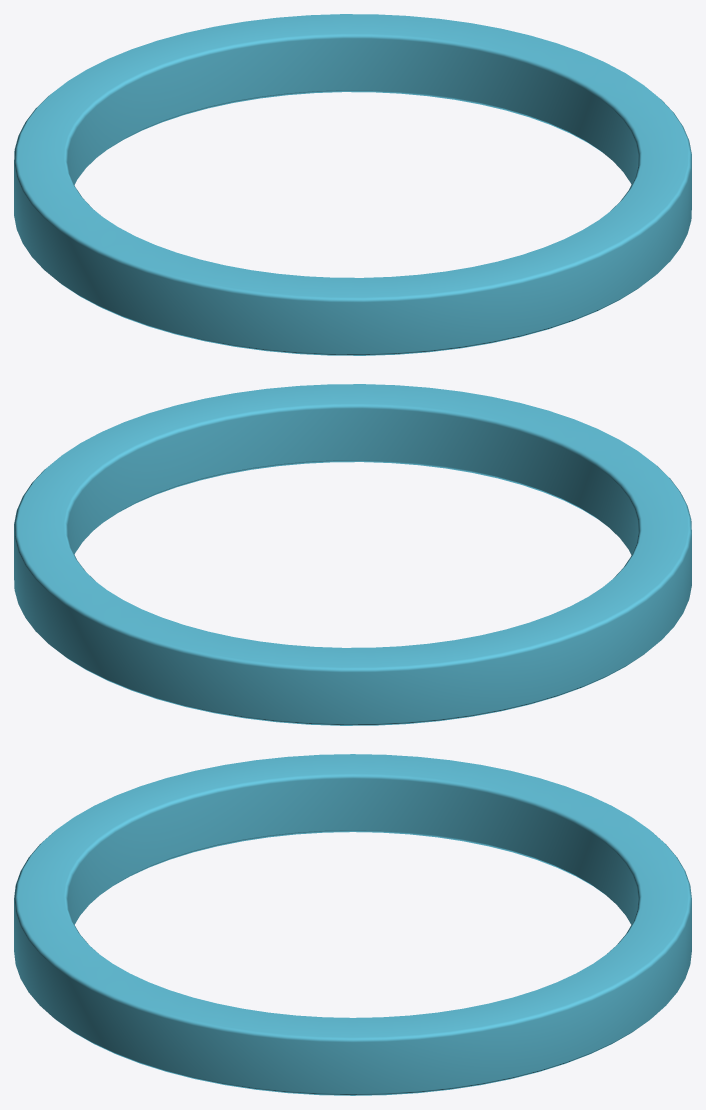
The picture shows the model from 3 angles, top to bottom: view 1: azimuth 30°, elevation 25°; view 2: azimuth 150°, elevation 25°; view 3: azimuth 270°, elevation 25°; orthographic projection.
Parts seen in each view (by area): view 1: seal_body; view 2: seal_body; view 3: seal_body.
Boxes of the visible parts, bbox=[...] form: seal_body: bbox=[14, 14, 691, 355]; seal_body: bbox=[14, 384, 691, 725]; seal_body: bbox=[14, 754, 691, 1095].
Bounding box in the file's own units: 0.063 × 0.006 × 0.063.
